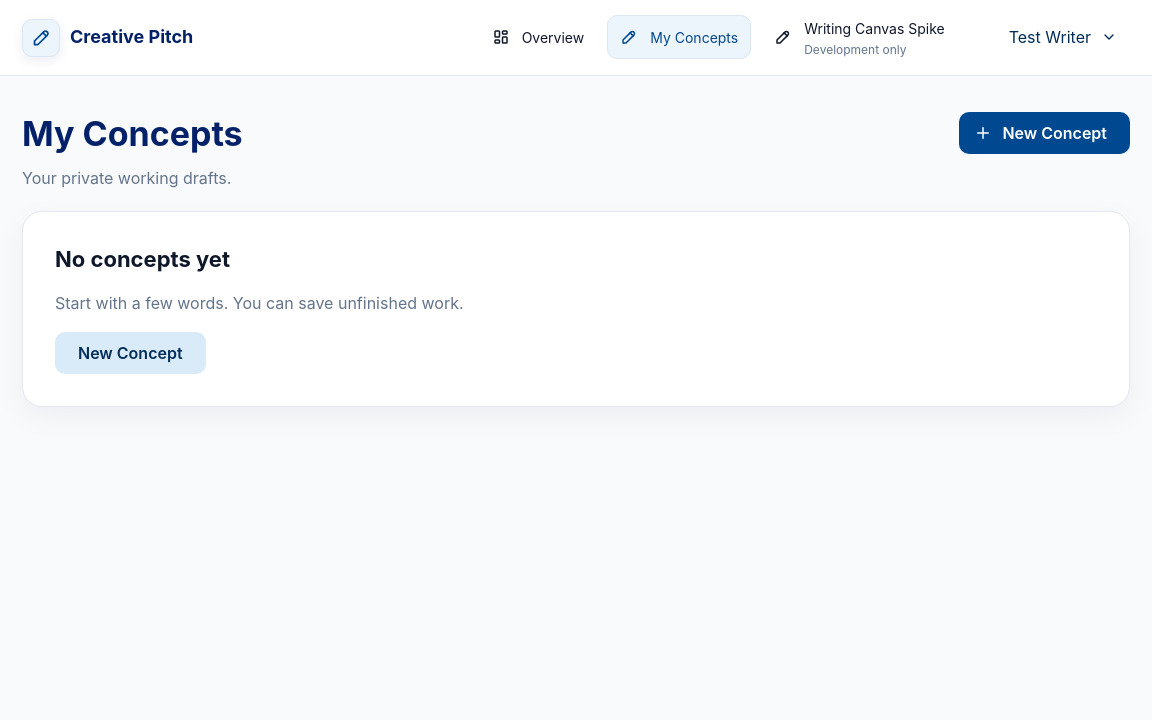
clears private caches on logout and leaves unrelated storage alone
Expected: the heading "No concepts yet" is shown, top-left (55, 244), bottom-right (230, 275)
Click the button with aria-label "Account menu" at (1060, 38), box top-left (990, 20), bottom-right (1130, 56)
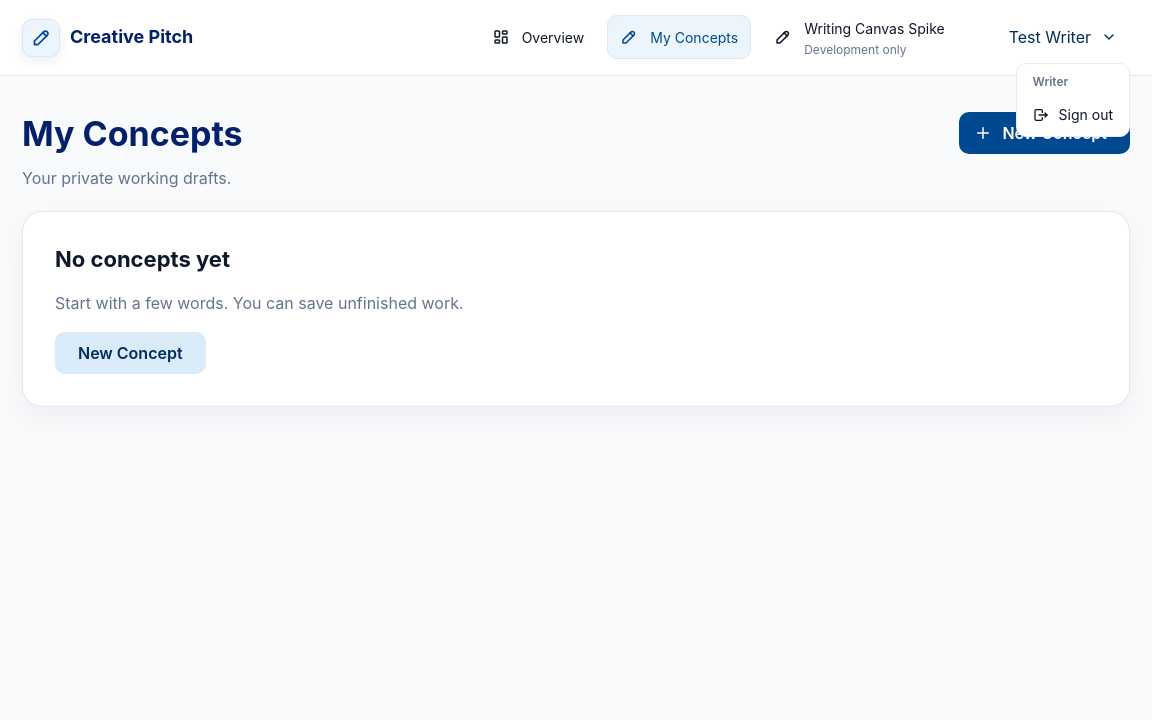
Click the menu item "Sign out" at (1073, 115), box top-left (1021, 97), bottom-right (1125, 132)
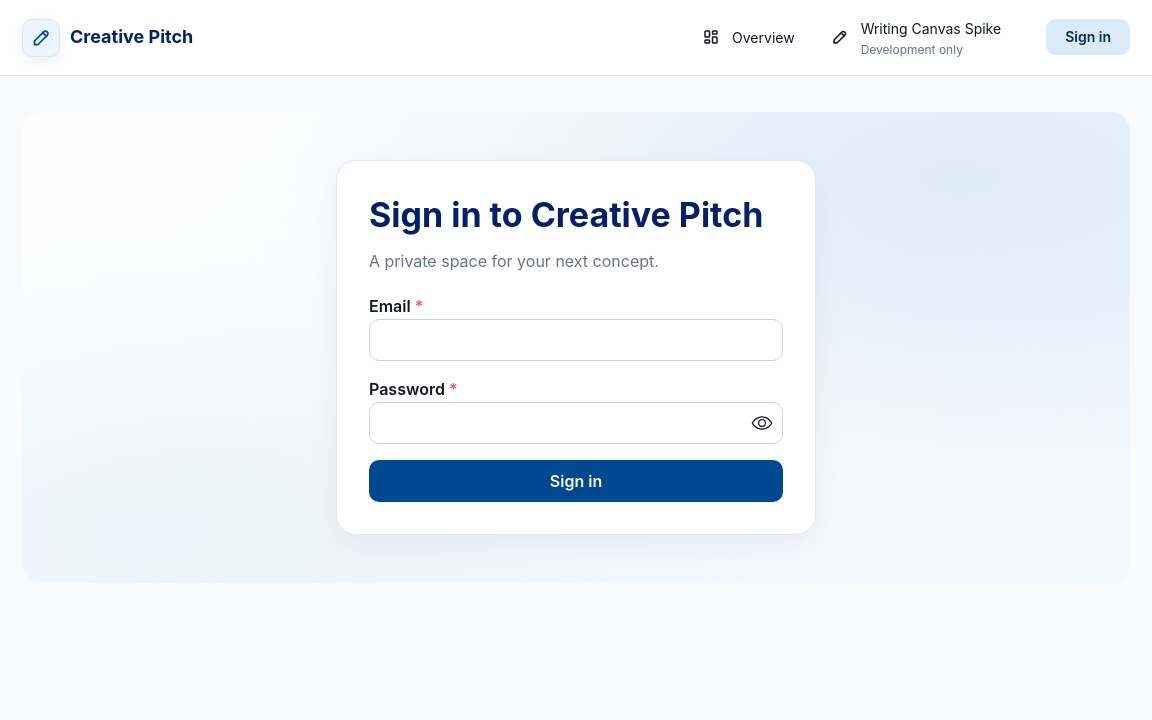
Expected: the heading "Sign in to Creative Pitch" is shown, top-left (369, 193), bottom-right (783, 237)
